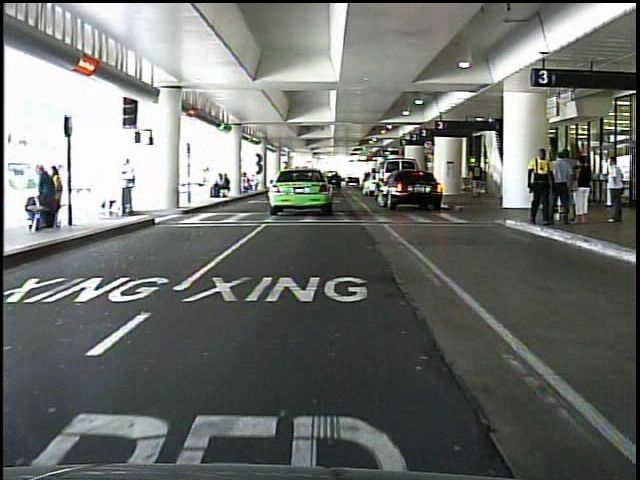person: (520, 147, 557, 235), (602, 153, 633, 225), (549, 145, 574, 233), (114, 158, 147, 224), (573, 153, 591, 231), (466, 158, 491, 206)
